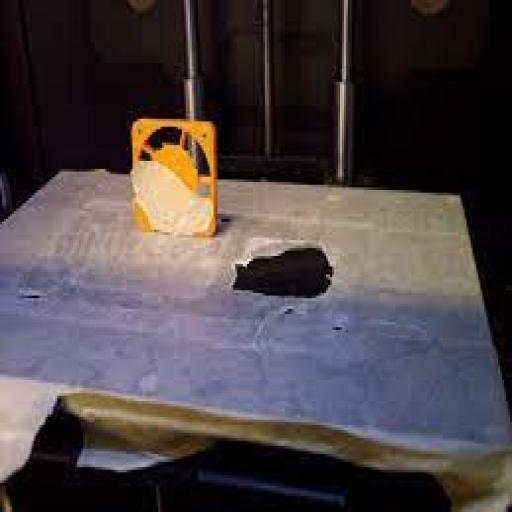spaghetti: (264, 234, 330, 256)
